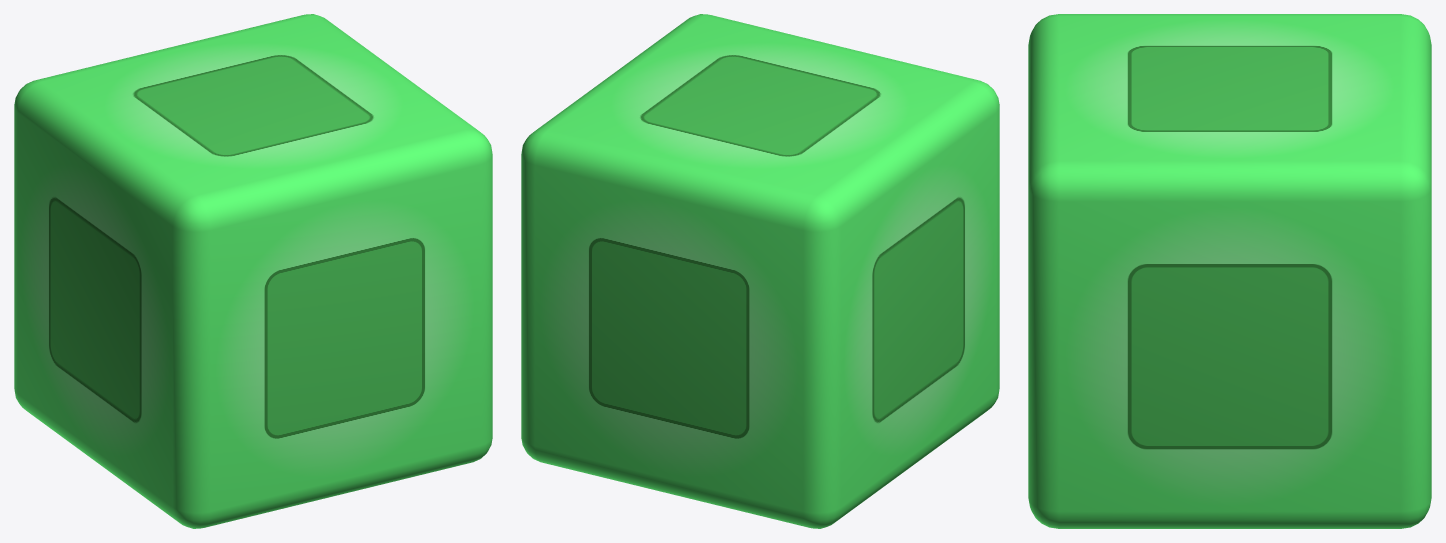
File: green plastic box.fbx
3 views of the same model, side by side, from view 1: azimuth 30°, elevation 25°; view 2: azimuth 150°, elevation 25°; view 3: azimuth 270°, elevation 25° (orthographic). The views are drawn at different scales.
Parts seen in each view (by area): view 1: Cube.001; view 2: Cube.001; view 3: Cube.001.
Part boxes in pixels (<box>): Cube.001: <box>14,14,492,528</box>; Cube.001: <box>521,14,999,528</box>; Cube.001: <box>1028,14,1431,528</box>.
Size of the model in its own units: 200 by 200 by 200.
Materials: 1 (1 with a texture image).
